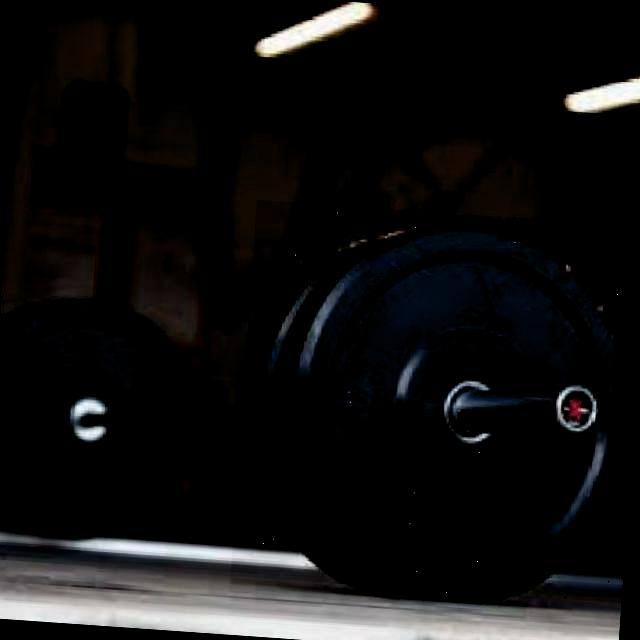barbell: (230, 201, 640, 620)
